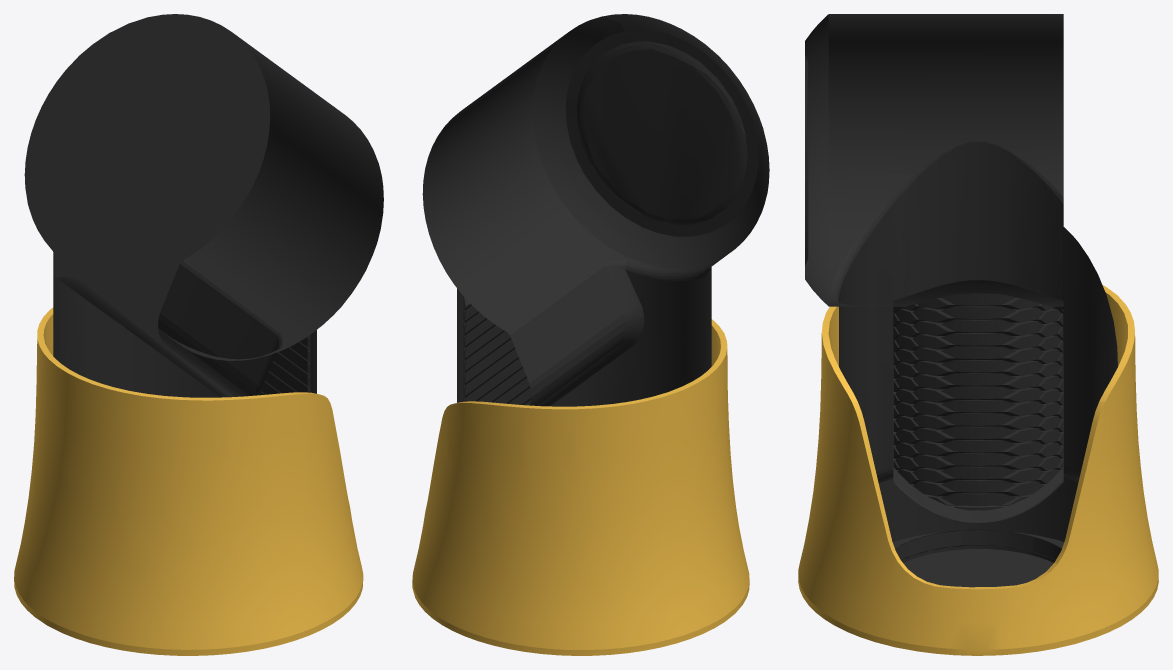
File: armr3.dae
3 views of the same model, side by side, from view 1: azimuth 30°, elevation 25°; view 2: azimuth 150°, elevation 25°; view 3: azimuth 270°, elevation 25° (orthographic). The views are drawn at different scales.
Parts seen in each view (by area): view 1: armr3; view 2: armr3; view 3: armr3.
Part boxes in pixels (x1,y1,x2,y2): armr3: [14, 14, 383, 655]; armr3: [412, 14, 769, 655]; armr3: [798, 14, 1158, 655].
Size of the model in its own units: 0.1061 by 0.106 by 0.1866.
Materials: 1 (1 with a texture image).
